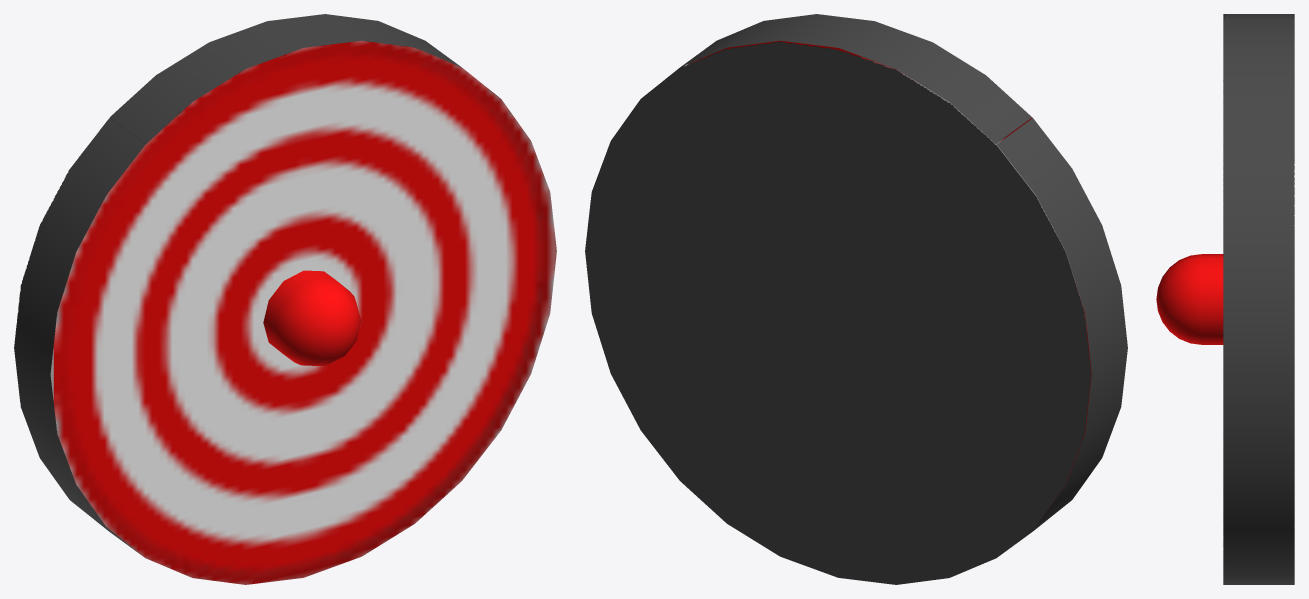
Rendered from Target.FBX.
3 views of the same model, side by side, from view 1: azimuth 30°, elevation 25°; view 2: azimuth 150°, elevation 25°; view 3: azimuth 270°, elevation 25° (orthographic). The views are drawn at different scales.
Visible parts, largest first — view 1: Target, Indicator; view 2: Target; view 3: Target, Indicator.
Part boxes in pixels (left/top/right/bottom): Target: left=14, top=14, right=556, bottom=584; Indicator: left=263, top=270, right=361, bottom=365; Target: left=585, top=14, right=1127, bottom=584; Target: left=1223, top=14, right=1294, bottom=584; Indicator: left=1156, top=254, right=1223, bottom=344.
Bounding box in the file's own units: 78.74 × 78.74 × 19.06.
